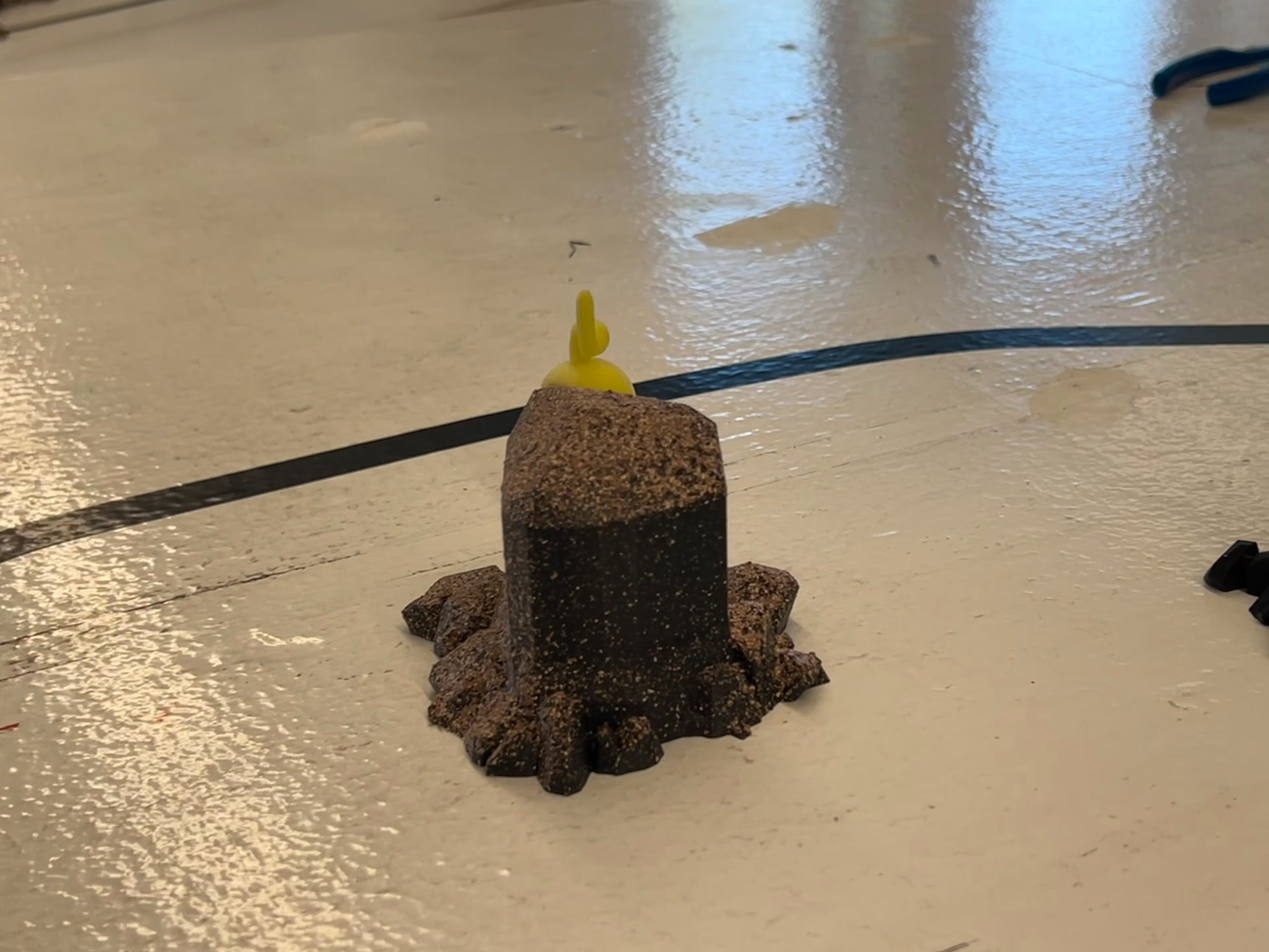teletubby: (543, 291, 634, 394)
